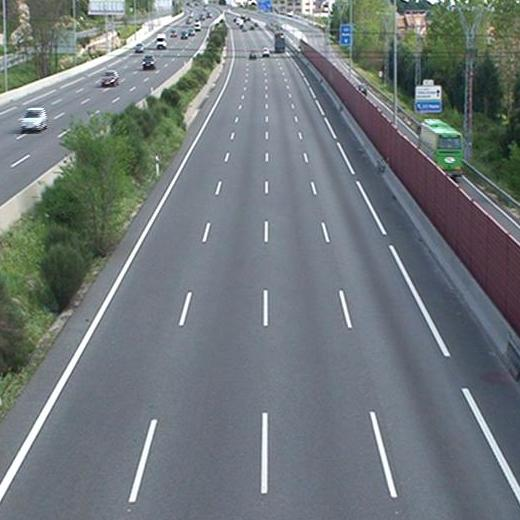car: (249, 50, 258, 61)
small-truck: (273, 32, 287, 53)
